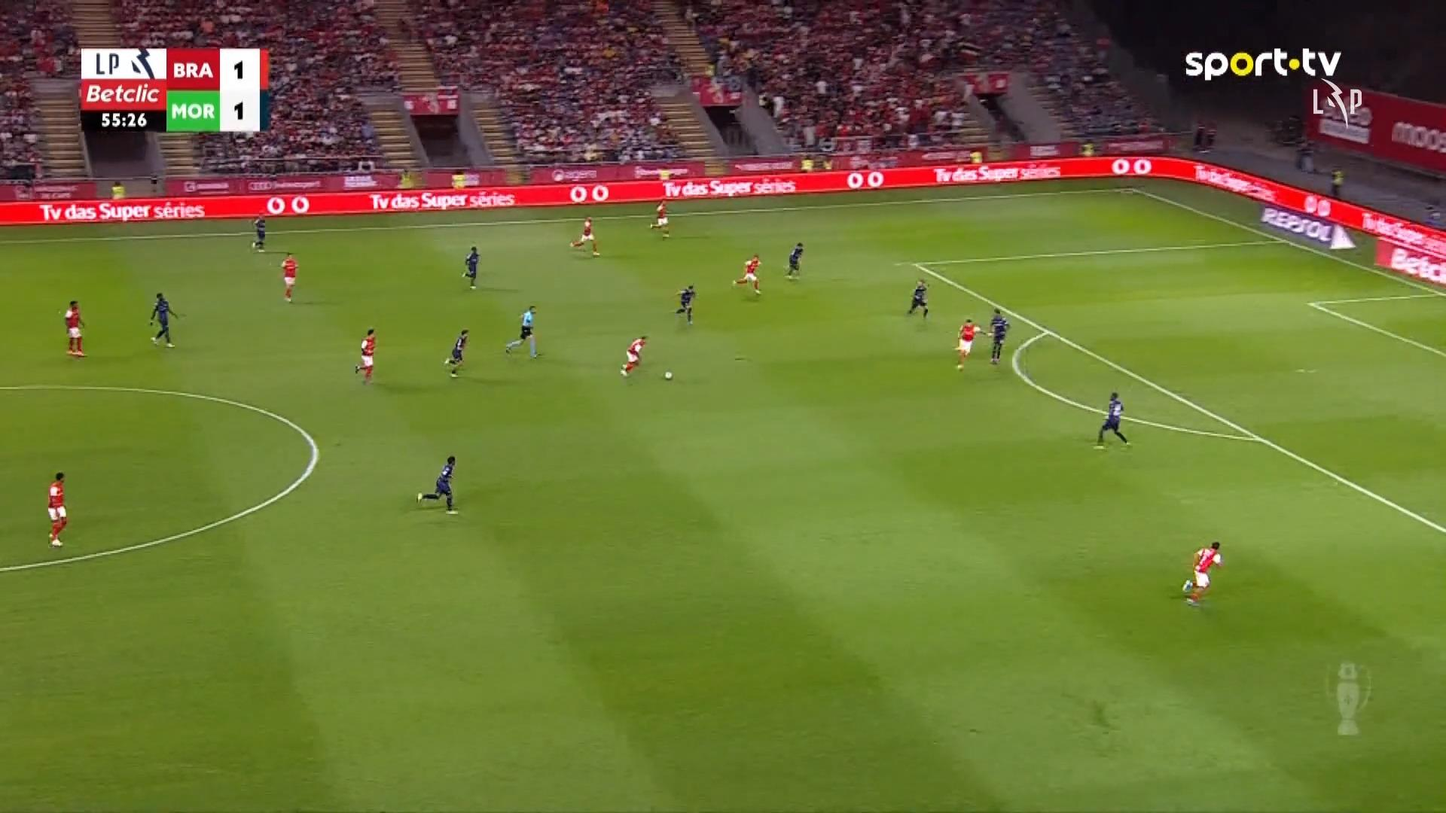ball: (664, 371, 672, 379)
player: (1181, 540, 1223, 605), (416, 455, 459, 515), (1094, 391, 1130, 449), (953, 318, 987, 370), (148, 291, 179, 348), (46, 471, 68, 547), (63, 300, 86, 357), (987, 307, 1010, 364), (731, 253, 762, 295), (443, 327, 469, 377), (569, 215, 599, 257), (355, 327, 377, 384), (619, 334, 648, 377), (279, 251, 298, 303), (906, 277, 929, 318), (675, 283, 696, 325), (461, 245, 480, 290), (649, 199, 670, 239), (784, 241, 804, 279), (251, 213, 267, 251)
referee: (504, 304, 540, 358)
